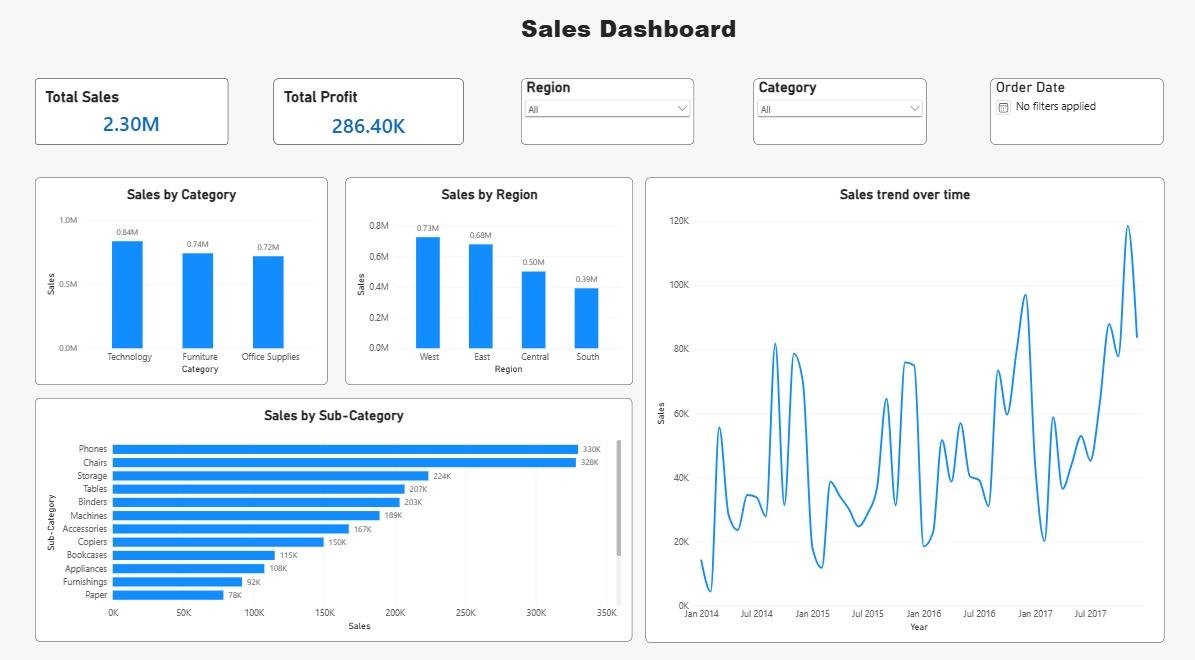

What the dashboard file says about the page in this screenshot:
{"tool":"powerbi","page":{"name":"Page 1","canvas":[1920,1080],"ordinal":0},"visuals":[{"type":"kpi","title":"Total Sales","fields":{"Indicator":["Sum(Orders.Sales)"],"TrendLine":["Orders.Country"]},"box":[67.5,135,307.5,105],"z":0},{"type":"kpi","title":"Total Profit ","fields":{"Indicator":["Sum(Orders.Profit)"],"TrendLine":["Orders.Country"]},"box":[445,135,302.5,105],"z":1000},{"type":"columnChart","title":"Sales by Category","fields":{"Category":["Orders.Category"],"Y":["Sum(Orders.Sales)"]},"box":[67.5,292.5,465,330],"z":2000},{"type":"clusteredBarChart","title":"Sales by Sub-Category","fields":{"Category":["Orders.Sub-Category"],"Y":["Sum(Orders.Sales)"]},"box":[67.5,645,950,387.5],"z":3000},{"type":"clusteredColumnChart","title":"Sales by Region","fields":{"Category":["Orders.Region"],"Y":["Sum(Orders.Sales)"]},"box":[560,292.5,457.5,330],"z":4000},{"type":"lineChart","title":"Sales trend over time","fields":{"Category":["Orders.Order Date.Variation.Date Hierarchy.Year","Orders.Order Date.Variation.Date Hierarchy.Month"],"Y":["Sum(Orders.Sales)"]},"box":[1037.5,292.5,825,740],"z":5000},{"type":"slicer","fields":{"Values":["Orders.Region"]},"box":[840,135,275,105],"z":6000},{"type":"slicer","fields":{"Values":["Orders.Category"]},"box":[1210,135,275,105],"z":7000},{"type":"slicer","fields":{"Values":["Orders.Order Date"]},"box":[1587.5,135,275,105],"z":8000},{"type":"textbox","box":[100,100,300,300],"z":8001},{"type":"textbox","box":[840,27.5,540,372.5],"z":8002}]}

Visuals, with their boxes in screenshot pixels (x1, y1, x2, y2), scaled from the page's 1920x1080 canvas onto the 1195x660 screenshot:
"Total Sales" kpi: 42 82 233 147
"Total Profit " kpi: 277 82 465 147
"Sales by Category" columnChart: 42 179 331 380
"Sales by Sub-Category" clusteredBarChart: 42 394 633 631
"Sales by Region" clusteredColumnChart: 349 179 633 380
"Sales trend over time" lineChart: 646 179 1159 631
slicer - Orders.Region: 523 82 694 147
slicer - Orders.Category: 753 82 924 147
slicer - Orders.Order Date: 988 82 1159 147
textbox: 62 61 249 244
textbox: 523 17 859 244
